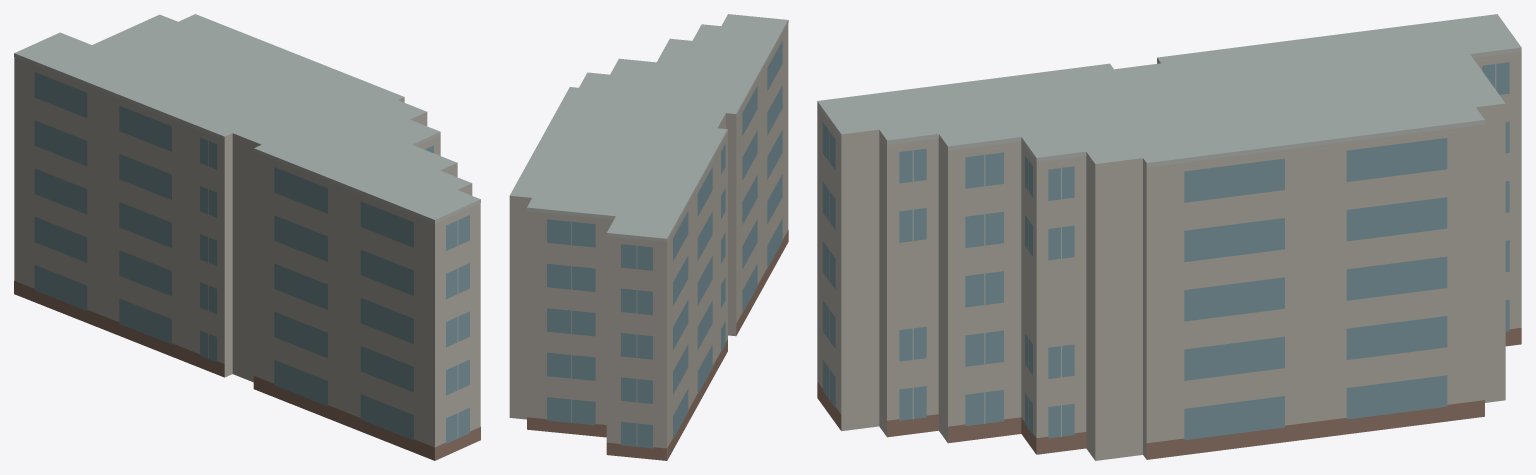
File: survey-upis-32656945.glb
3 renders of one model, left to right at view 1: azimuth 30°, elevation 25°; view 2: azimuth 150°, elevation 25°; view 3: azimuth 270°, elevation 25°, orthographic. The views are drawn at different scales.
Parts seen in each view (by area): view 1: survey-upis-32656945.tmp; view 2: survey-upis-32656945.tmp; view 3: survey-upis-32656945.tmp.
Part boxes in pixels (<box>): survey-upis-32656945.tmp: <box>14,14,480,460</box>; survey-upis-32656945.tmp: <box>509,14,788,460</box>; survey-upis-32656945.tmp: <box>817,14,1521,460</box>.
Bounding box in the file's own units: 17.25 × 15.9 × 34.21.
